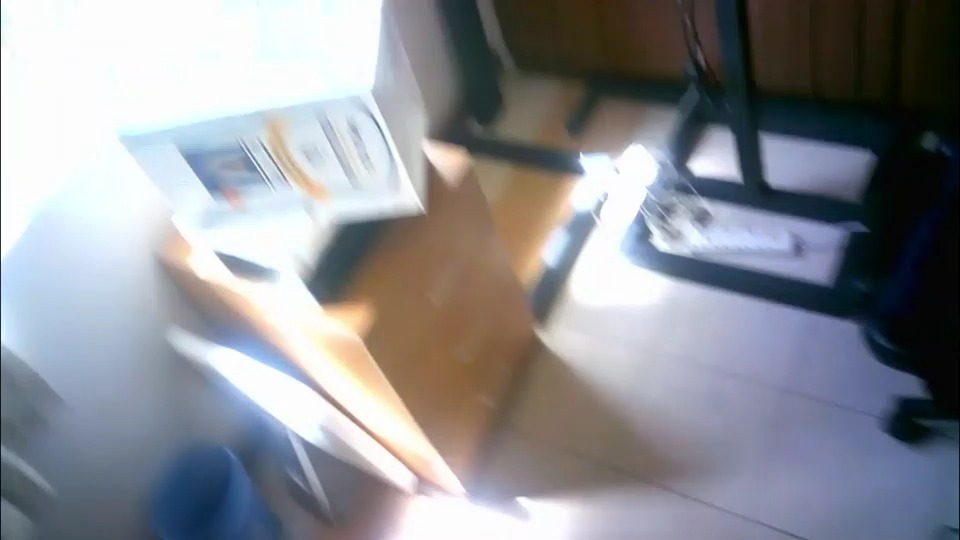wheat_flour_blue_label: (116, 4, 430, 220)
